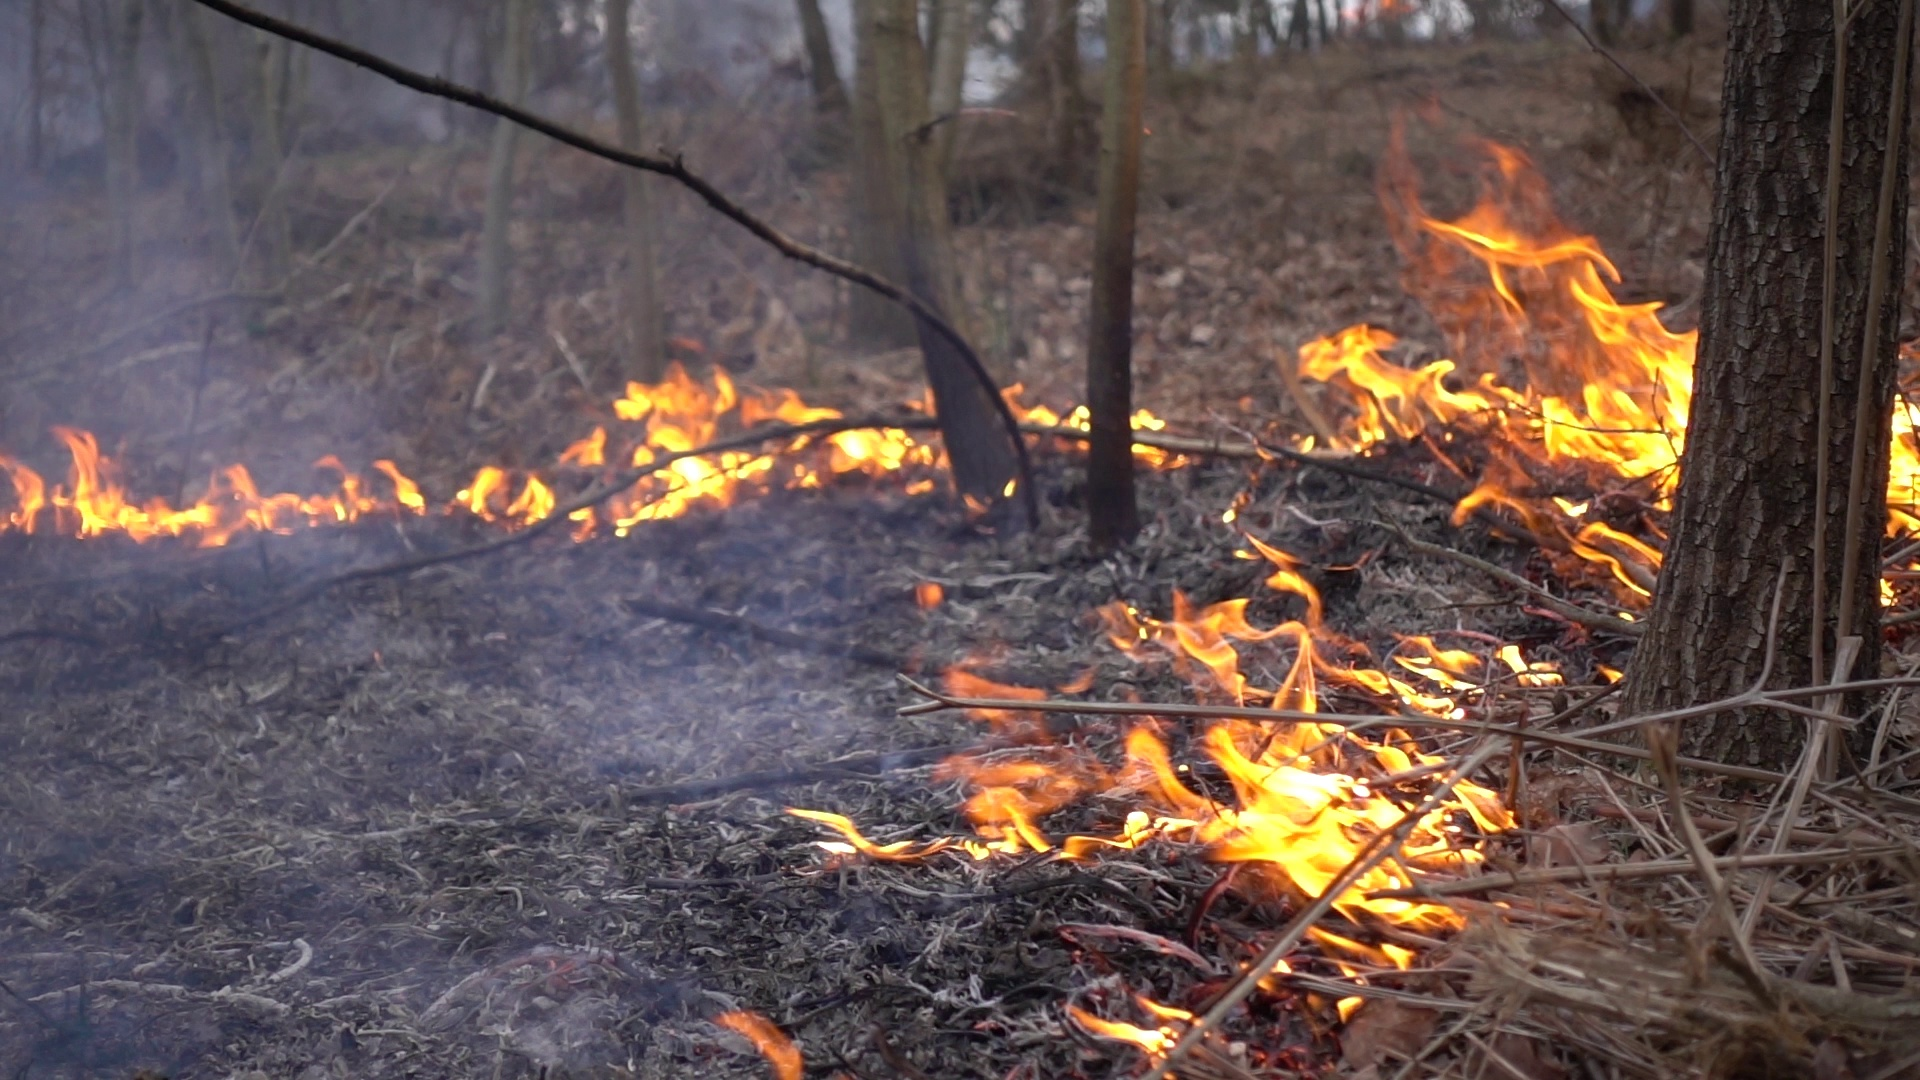fire: (942, 574, 1564, 932), (1309, 156, 1702, 537), (1, 429, 419, 546), (612, 367, 899, 506), (464, 472, 560, 524), (1888, 390, 1920, 531)
